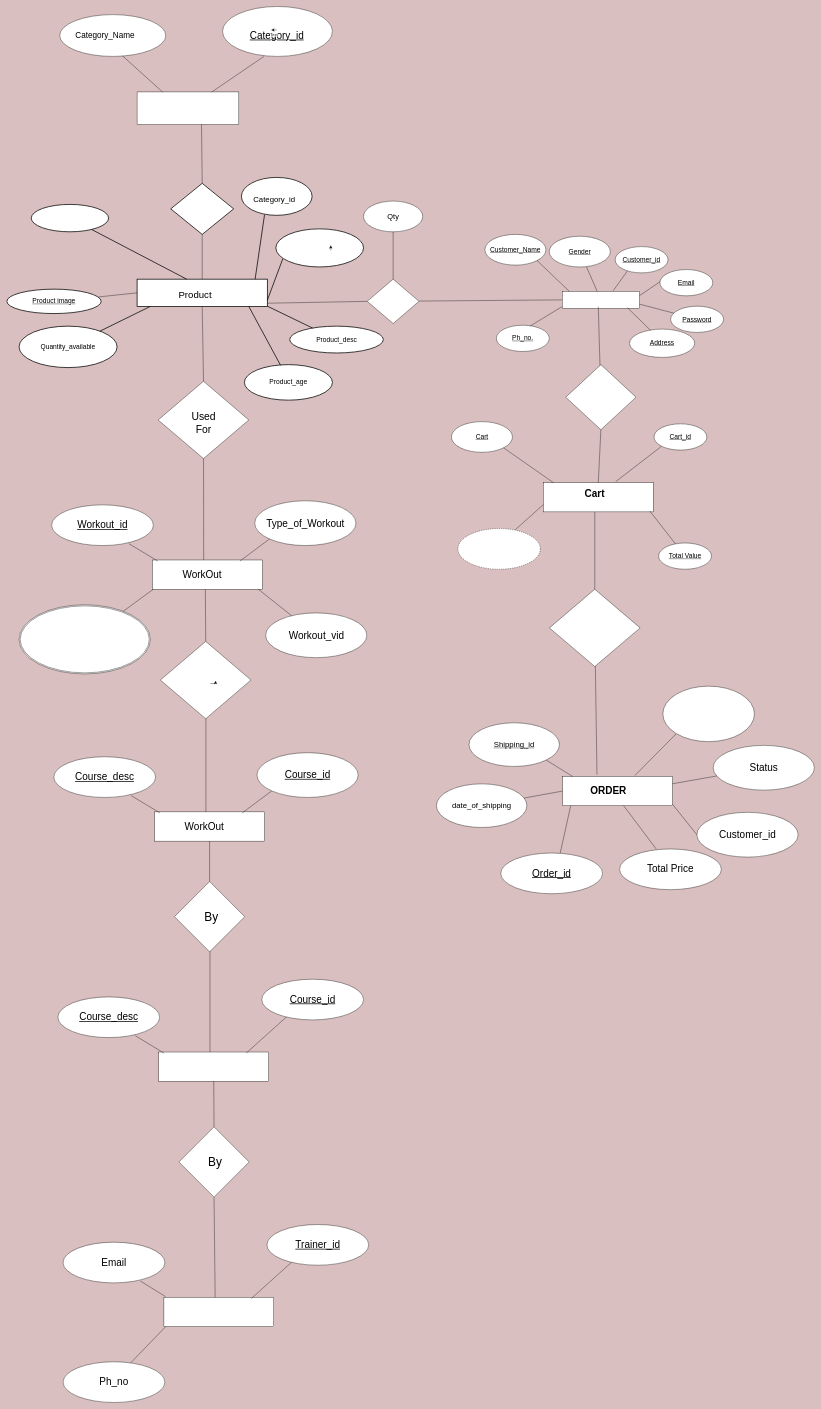
Image size: 821x1409. Some labels were removed from this diagram. Here are the shapes that lost their labels. From the top down, the centre of each, then its label:
the point at 188,108: Category
the point at 70,218: Price
the point at 202,209: In
the point at 319,247: Product_Name
the point at 393,301: For
the point at 601,299: Customer
the point at 600,397: Has
the point at 499,548: Total_quantity
the point at 84,639: Musscle_Type
the point at 594,628: Checkout
the point at 205,680: Includes
the point at 708,714: date_of_order
the point at 213,1066: Course
the point at 219,1312: Trainer
